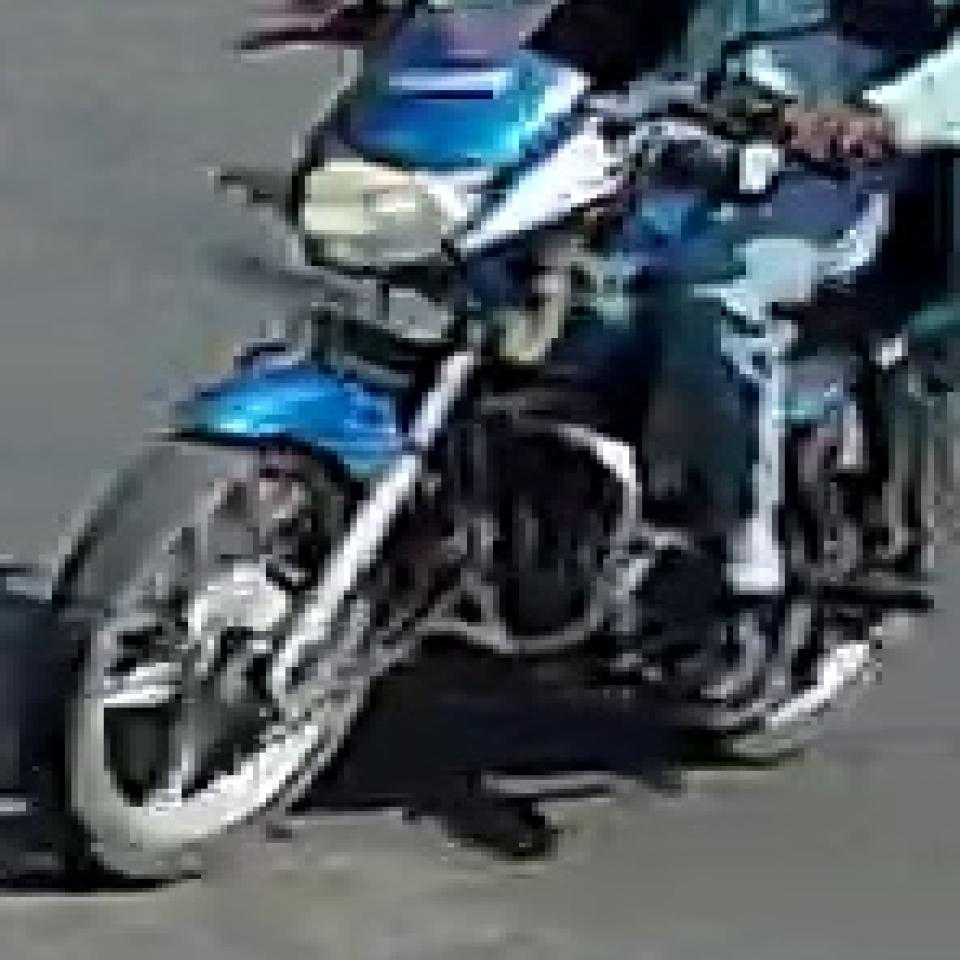head_light: (297, 120, 507, 272)
